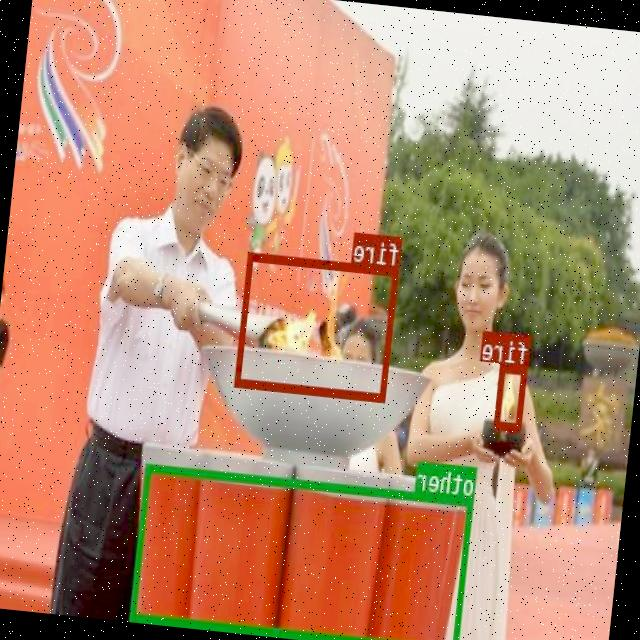fire: (236, 250, 400, 400), (494, 362, 528, 430)
